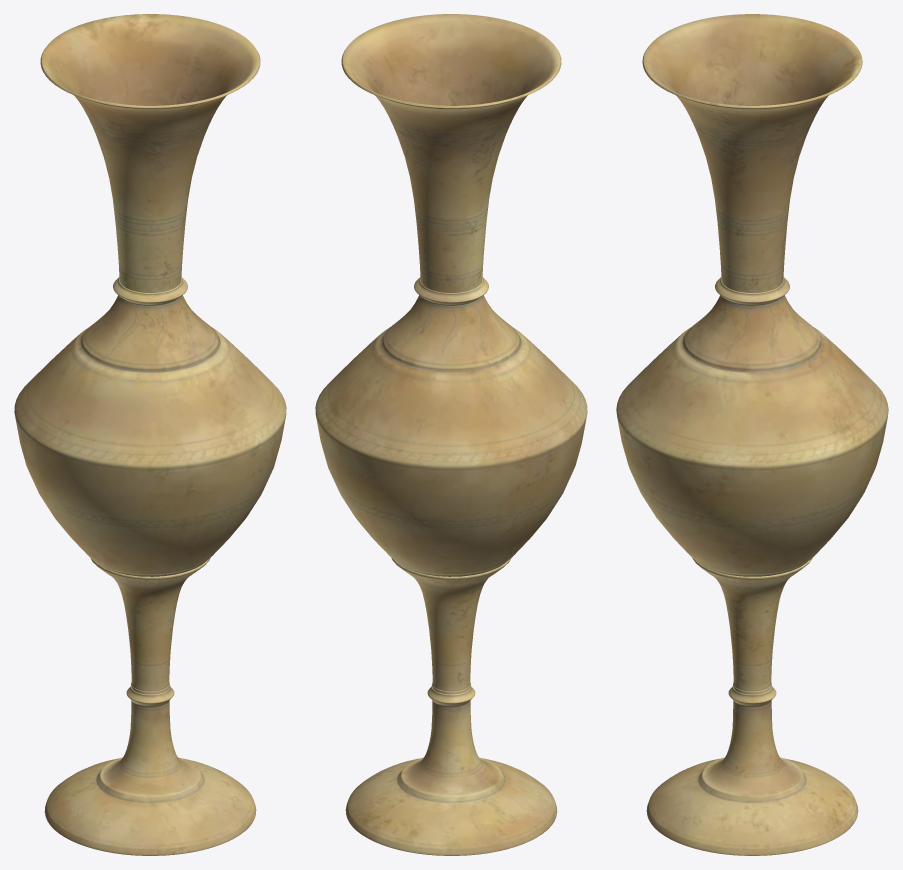
File: brass_vase.glb
3 renders of one model, left to right at view 1: azimuth 30°, elevation 25°; view 2: azimuth 150°, elevation 25°; view 3: azimuth 270°, elevation 25°, orthographic.
Parts seen in each view (by area): view 1: brass_vase_01; view 2: brass_vase_01; view 3: brass_vase_01.
Boxes of the visible parts, box(x1,y1,x2,y2) form: brass_vase_01: box(14, 14, 286, 855); brass_vase_01: box(315, 14, 587, 855); brass_vase_01: box(616, 14, 888, 855).
Bounding box in the file's own units: 0.2273 × 0.6925 × 0.2273.
1 material, 1 textured.
